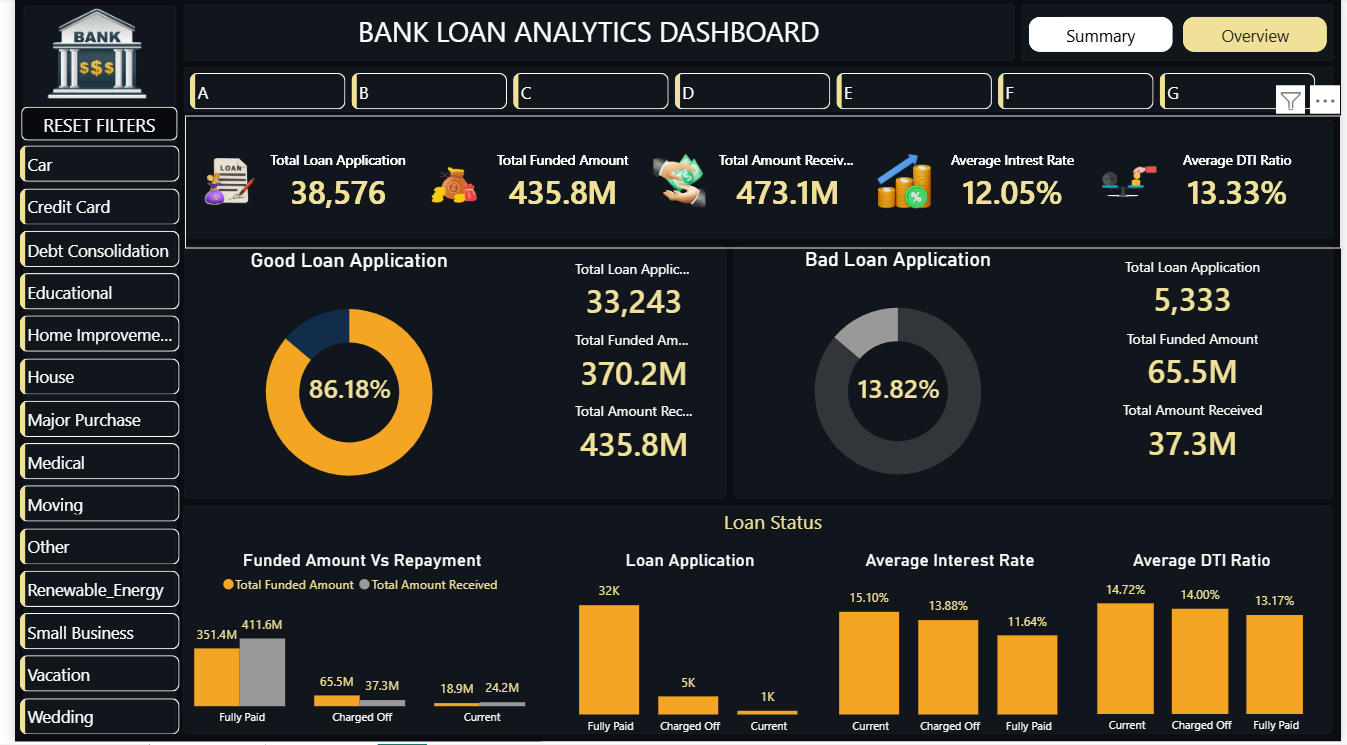

This screenshot's page, from the dashboard's own definition file:
{"tool":"powerbi","page":{"name":"Summary","canvas":[1280,720],"ordinal":0},"visuals":[{"type":"cardVisual","fields":{"Data":["financial_loan.Total Loan Application","financial_loan.Total Funded Amount","financial_loan.Total Amount Received","financial_loan.Average Intrest Rate","financial_loan.Average DTI Rate"]},"box":[164.1,113.4,1116,127.9],"z":0},{"type":"donutChart","title":"Good Loan Application","fields":{"Category":["financial_loan.Good_vs_Bad_Loan"],"Y":["financial_loan.Total Loan Application"]},"box":[163.8,242.5,317.3,243.7],"z":1000},{"type":"donutChart","title":"Bad Loan Application","fields":{"Category":["financial_loan.Good_vs_Bad_Loan"],"Y":["financial_loan.Total Loan Application"]},"box":[693.7,241.3,317.3,243.7],"z":2000},{"type":"cardVisual","fields":{"Data":["financial_loan.Good Loan %"]},"box":[242.5,331.8,162.9,86.9],"z":3000},{"type":"cardVisual","fields":{"Data":["financial_loan.Bad Loan %"]},"box":[781.8,331.8,143.6,86.9],"z":4000},{"type":"cardVisual","fields":{"Data":["financial_loan.Total Loan Application","financial_loan.Total Funded Amount","financial_loan.Total Amount Received"],"Rows":["financial_loan.Good_vs_Bad_Loan"]},"box":[481.2,217.5,198.8,268.8],"z":5000},{"type":"cardVisual","fields":{"Data":["financial_loan.Total Loan Application","financial_loan.Total Funded Amount","financial_loan.Total Amount Received","financial_loan.Average Intrest Rate","financial_loan.Average DTI Rate"]},"box":[164,113.4,1116,127.9],"z":6000},{"type":"cardVisual","fields":{"Data":["financial_loan.Total Loan Application","financial_loan.Total Funded Amount","financial_loan.Total Amount Received"],"Rows":["financial_loan.Good_vs_Bad_Loan"]},"box":[1011.2,216.2,232.5,268.8],"z":7000},{"type":"clusteredColumnChart","title":"Funded Amount Vs Repayment","fields":{"Category":["financial_loan.LOAN_STATUS"],"Y":["financial_loan.Total Funded Amount","financial_loan.Total Amount Received"]},"box":[121.5,531.6,426.9,179.5],"z":8000},{"type":"clusteredColumnChart","title":"Loan Application","fields":{"Category":["financial_loan.LOAN_STATUS"],"Y":["financial_loan.Total Loan Application"]},"box":[509,532.1,285,187.5],"z":9000},{"type":"textbox","box":[679.7,487.3,232.5,45],"z":10000},{"type":"clusteredColumnChart","title":"Average Interest Rate","fields":{"Category":["financial_loan.LOAN_STATUS"],"Y":["financial_loan.Average Intrest Rate"]},"box":[760.1,532,285,187.5],"z":11000},{"type":"clusteredColumnChart","title":"Average DTI Ratio","fields":{"Category":["financial_loan.LOAN_STATUS"],"Y":["financial_loan.Average DTI Ratio"]},"box":[1011,532,269,187],"z":12000},{"type":"image","box":[8.4,9.7,141.2,86.9],"z":13000},{"type":"advancedSlicerVisual","fields":{"Values":["financial_loan.PURPOSE"]},"box":[0,137.5,164.1,582.7],"z":14000},{"type":"advancedSlicerVisual","fields":{"Values":["financial_loan.GRADE"]},"box":[164.1,67.6,1102.7,45.8],"z":15000},{"type":"actionButton","box":[6,105,150.8,32.6],"z":16000},{"type":"textbox","box":[96.5,8.4,914.5,59.1],"z":17000},{"type":"pageNavigator","box":[978.4,18.1,288.3,35],"z":18000}]}

Visuals, with their boxes in screenshot pixels (x1, y1, x2, y2), scaled from the page's 1280x720 canvas onto the 1347x745 screenshot:
cardVisual - financial_loan.Total Loan Application x financial_loan.Total Funded Amount: detection(173, 117, 1346, 250)
"Good Loan Application" donutChart: detection(172, 251, 506, 503)
"Bad Loan Application" donutChart: detection(730, 250, 1064, 502)
cardVisual - financial_loan.Good Loan %: detection(255, 343, 427, 433)
cardVisual - financial_loan.Bad Loan %: detection(823, 343, 974, 433)
cardVisual - financial_loan.Total Loan Application x financial_loan.Total Funded Amount: detection(506, 225, 716, 503)
cardVisual - financial_loan.Total Loan Application x financial_loan.Total Funded Amount: detection(173, 117, 1346, 250)
cardVisual - financial_loan.Total Loan Application x financial_loan.Total Funded Amount: detection(1064, 224, 1309, 502)
"Funded Amount Vs Repayment" clusteredColumnChart: detection(128, 550, 577, 736)
"Loan Application" clusteredColumnChart: detection(536, 551, 836, 744)
textbox: detection(715, 504, 960, 551)
"Average Interest Rate" clusteredColumnChart: detection(800, 550, 1100, 744)
"Average DTI Ratio" clusteredColumnChart: detection(1064, 550, 1346, 744)
image: detection(9, 10, 157, 100)
advancedSlicerVisual - financial_loan.PURPOSE: detection(0, 142, 173, 744)
advancedSlicerVisual - financial_loan.GRADE: detection(173, 70, 1333, 117)
actionButton: detection(6, 109, 165, 142)
textbox: detection(102, 9, 1064, 70)
pageNavigator: detection(1030, 19, 1333, 55)
